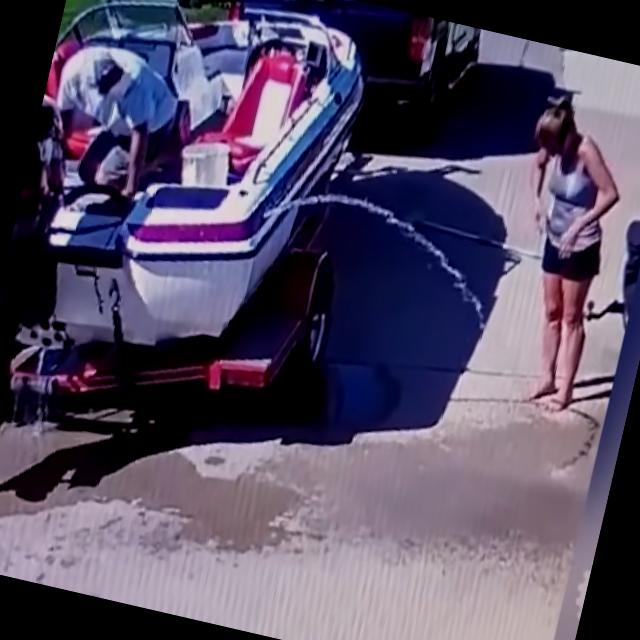person: (471, 92, 639, 416), (37, 35, 193, 206)
